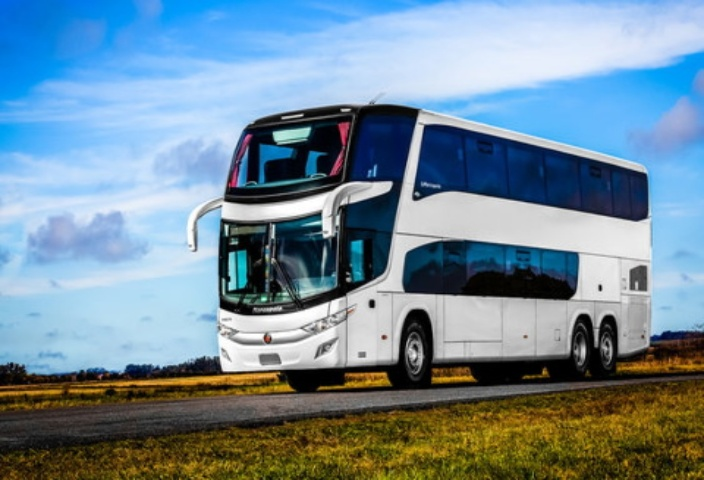bus: (188, 83, 669, 405)
